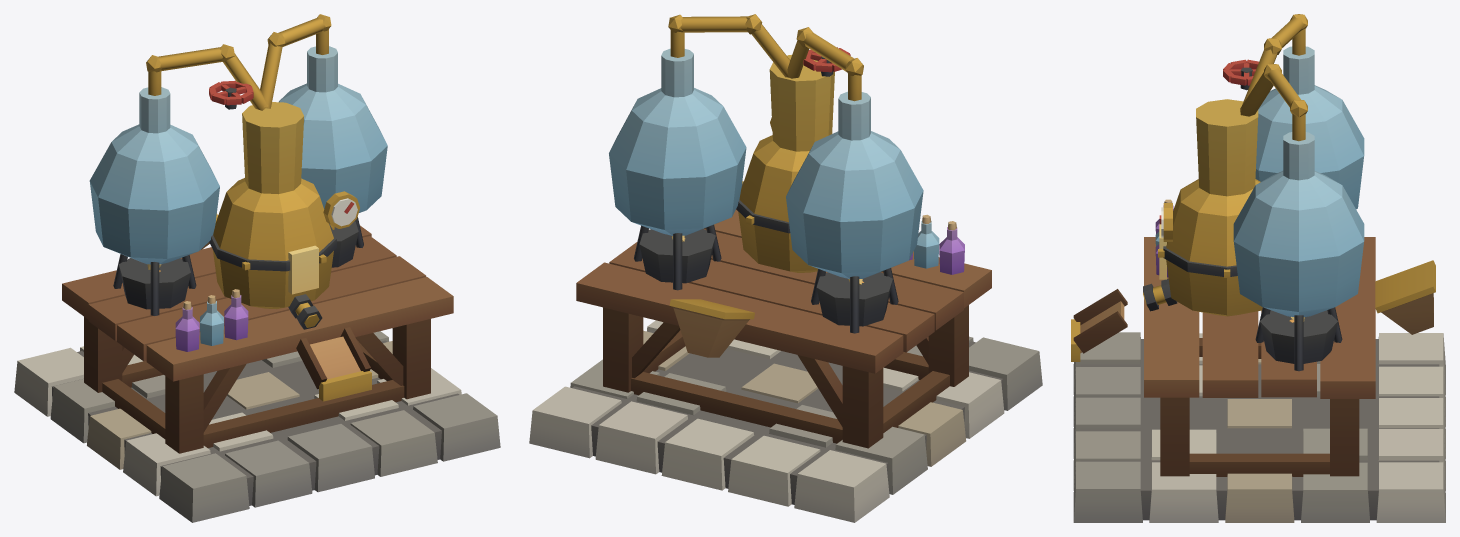
The model's file is mach_infuser.glb.
3 views of the same model, side by side, from view 1: azimuth 30°, elevation 25°; view 2: azimuth 150°, elevation 25°; view 3: azimuth 270°, elevation 25° (orthographic). The views are drawn at different scales.
Visible parts, largest first — view 1: mach_infuser; view 2: mach_infuser; view 3: mach_infuser.
Boxes of the visible parts, <box> form: mach_infuser: <box>14,14,500,522</box>; mach_infuser: <box>529,14,1042,522</box>; mach_infuser: <box>1071,14,1445,522</box>.
Size of the model in its own units: 5.7 by 6.64 by 5.74.
Materials: 1 (1 with a texture image).
